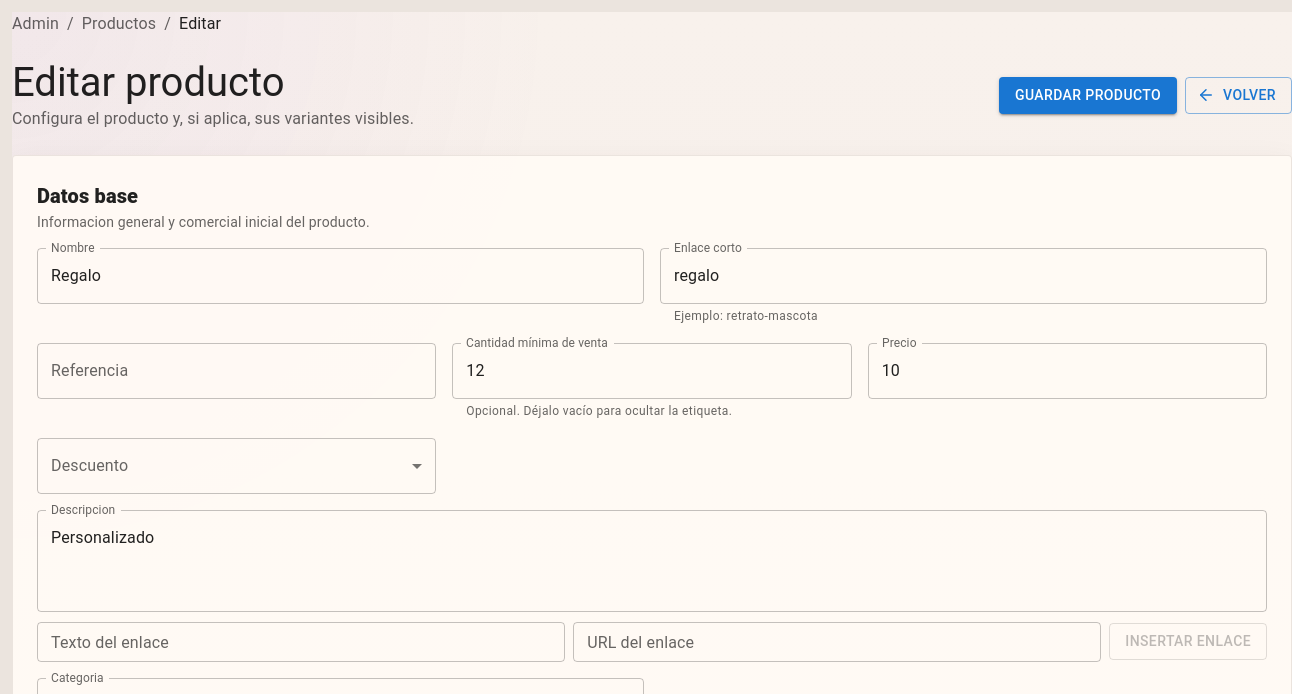
Test: minimum sale quantity form › rejects invalid minimum '0' before saving
This screenshot has width=1292, height=694.
Replace the text in the field labelled "Cantidad mínima de venta" with "0" at (652, 371), box [452,343,852,399]
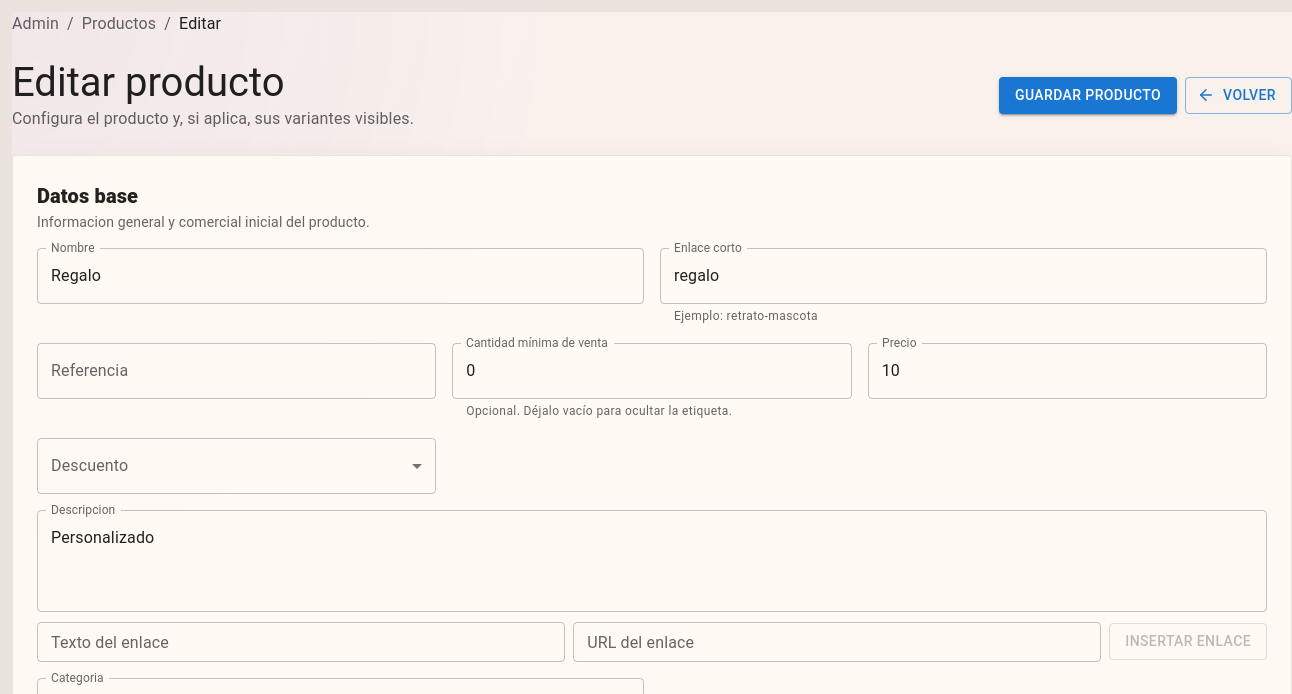
Click the button "Guardar producto".
click(1088, 95)  # box [999,77,1177,114]
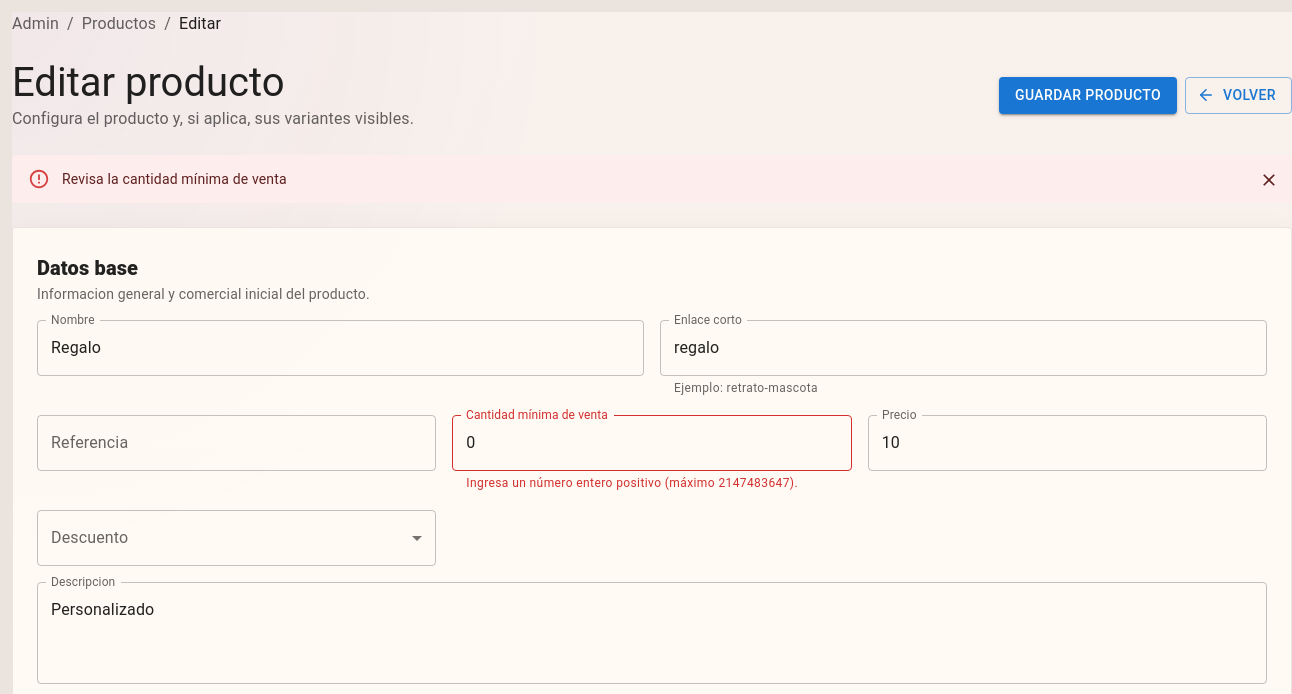
Expected: the text "Ingresa un número entero positivo (máximo 2147483647)." is shown, [466,474,838,494]
